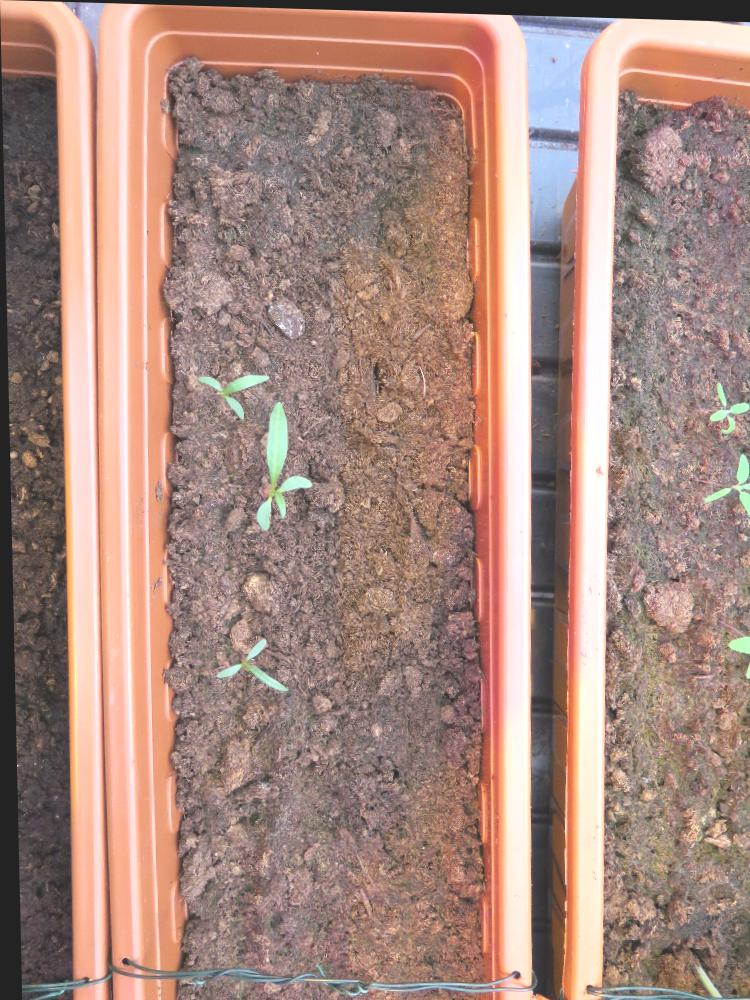weed: (250, 395, 310, 531), (211, 634, 285, 692), (193, 368, 267, 422), (704, 373, 747, 432)
